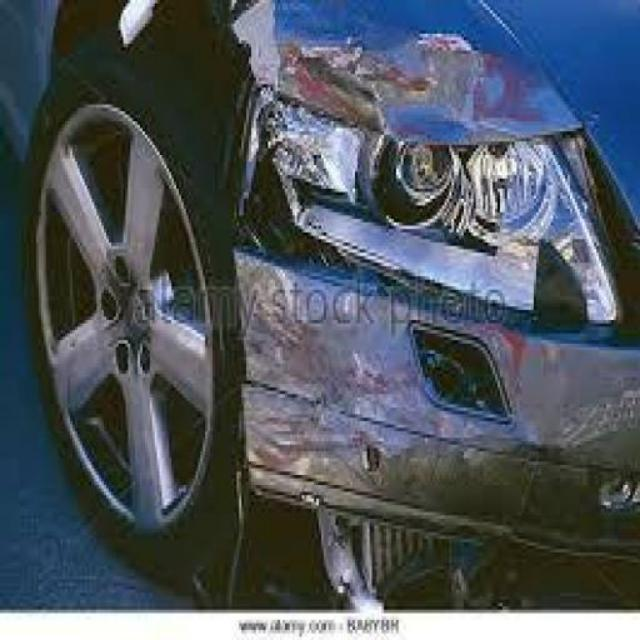dent: (199, 5, 638, 613)
